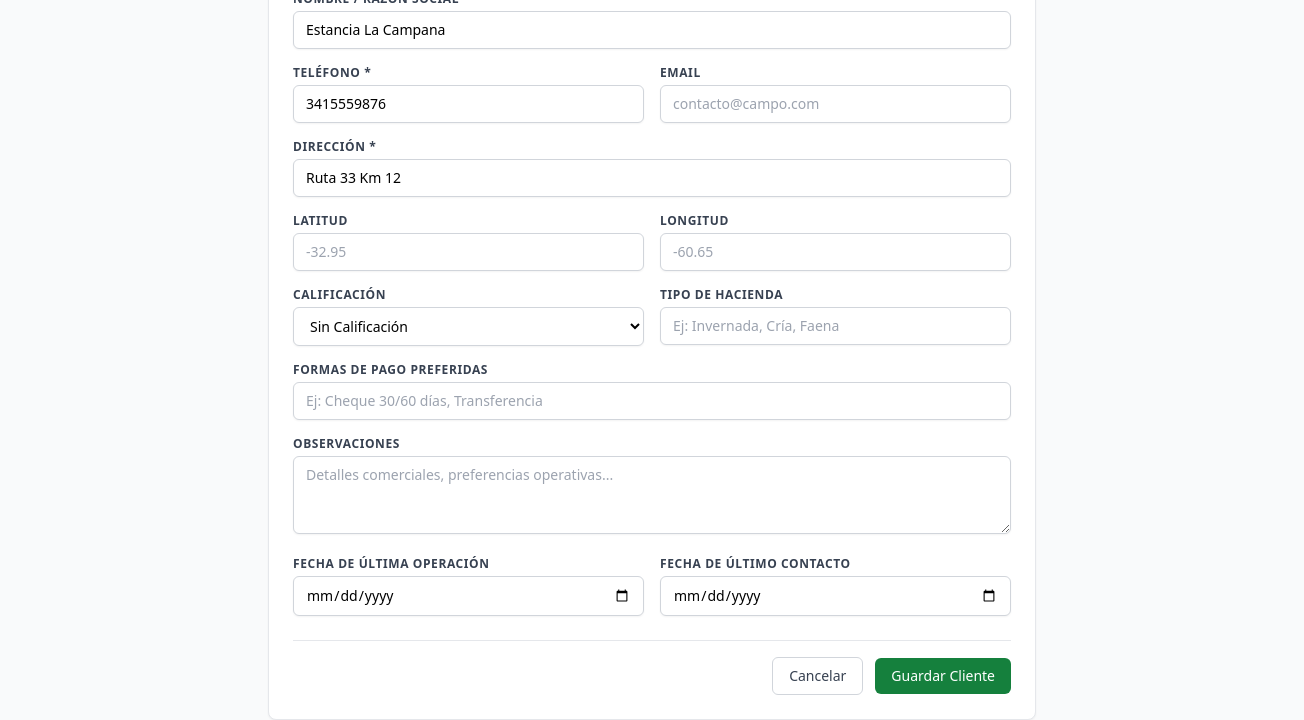
Scenario: ClientesPage › returns to ClienteDetail when clicking "Cancelar" in edit form
(page scrolled)
Click the button "Cancelar": click(818, 676) [772,657,863,695]
(page scrolled)
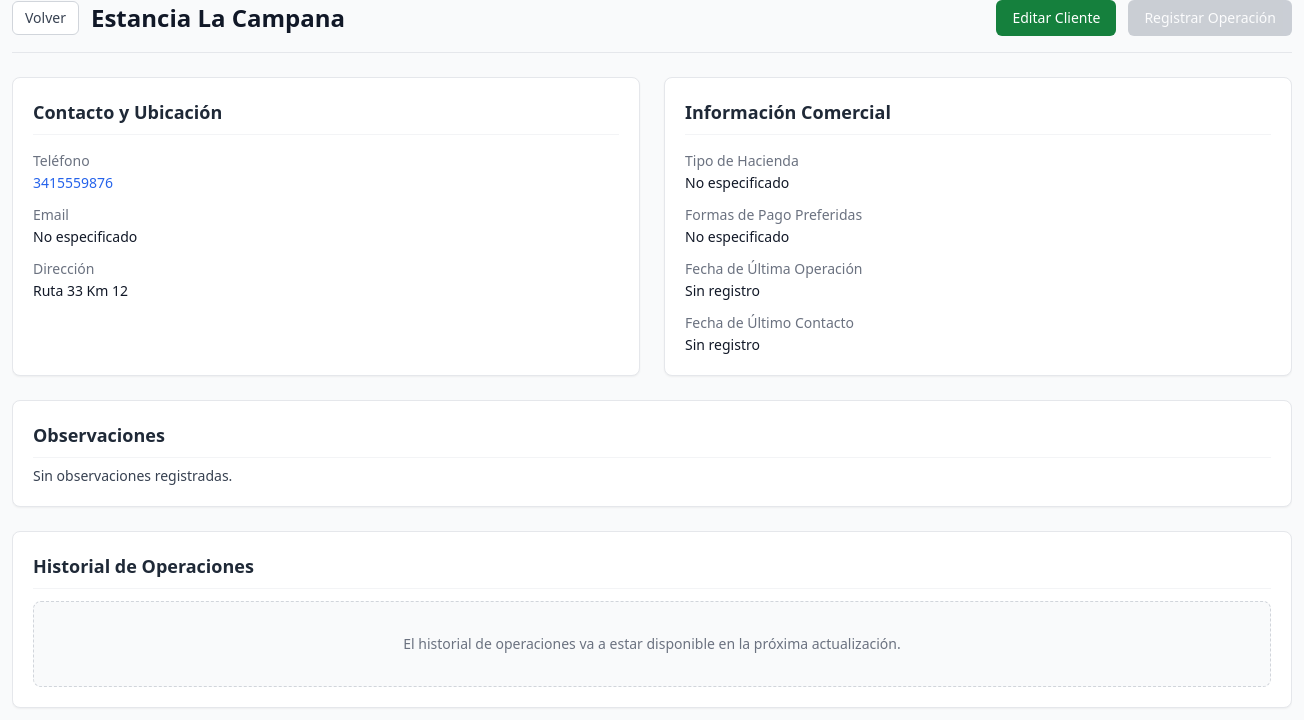
Expected: the button "Editar Cliente" is shown, [996,0,1116,36]
Now the heading "Estancia La Campana" is shown, box [91,2,345,34]
